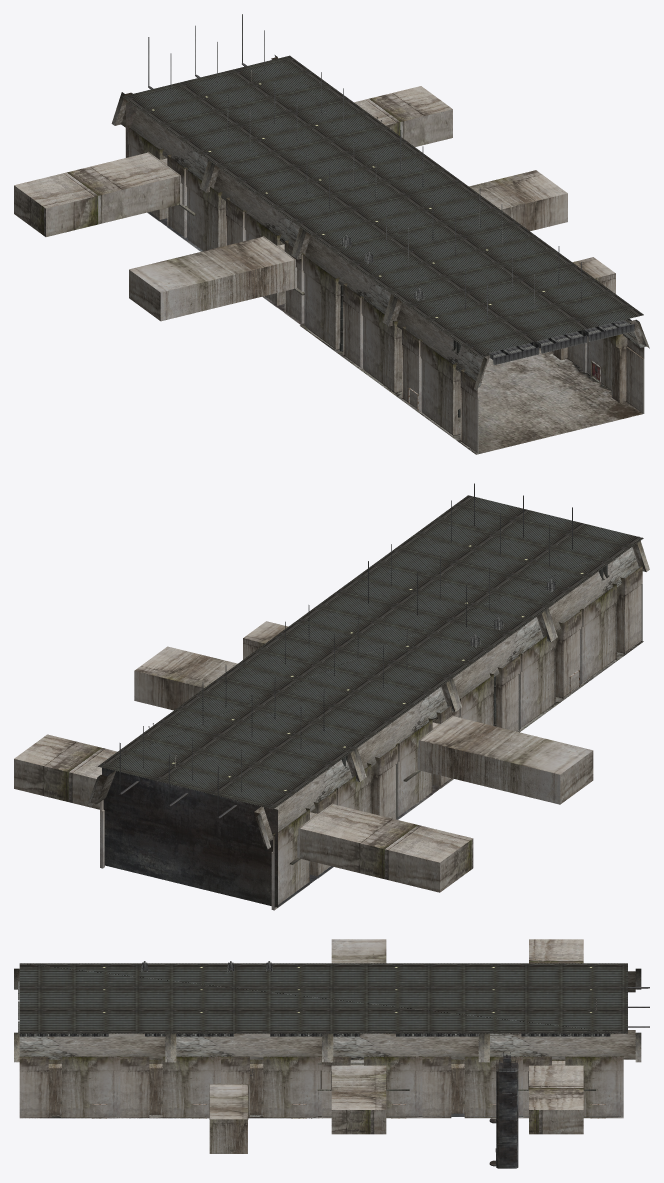
The model's file is на скетч.fbx.
3 renders of one model, top to bottom at view 1: azimuth 30°, elevation 25°; view 2: azimuth 150°, elevation 25°; view 3: azimuth 270°, elevation 25°, orthographic. The views are drawn at different scales.
Parts seen in each view (by area): view 1: Plane.005, Plane.004, Plane.001, Plane, Plane.012, Plane.006, Cube.020, Cube.001; view 2: Plane.005, Plane.004, Plane.014, Plane.012, Plane.001, Cube.020, Cube.001; view 3: Plane.005, Plane.001, Plane.012, Plane.004, Cube.001, factory_tube_03.001, Plane.006, Plane.
Part boxes in pixels (x1=…): Plane.005: x1=122, y1=55, x2=643, y2=355; Plane.004: x1=14, y1=125, x2=478, y2=454; Plane.001: x1=354, y1=86, x2=644, y2=413; Plane: x1=300, y1=325, x2=642, y2=454; Plane.012: x1=111, y1=55, x2=649, y2=390; Plane.006: x1=488, y1=318, x2=634, y2=365; Cube.020: x1=148, y1=14, x2=581, y2=325; Cube.001: x1=572, y1=257, x2=615, y2=293; Plane.005: x1=98, y1=495, x2=643, y2=809; Plane.004: x1=271, y1=566, x2=642, y2=910; Plane.014: x1=102, y1=768, x2=277, y2=907; Plane.012: x1=87, y1=536, x2=649, y2=848; Plane.001: x1=14, y1=646, x2=237, y2=868; Cube.020: x1=119, y1=483, x2=572, y2=818; Cube.001: x1=243, y1=621, x2=287, y2=659; Plane.005: x1=19, y1=963, x2=627, y2=1033; Plane.001: x1=19, y1=1056, x2=623, y2=1134; Plane.012: x1=14, y1=968, x2=641, y2=1062; Plane.004: x1=331, y1=939, x2=583, y2=963; Cube.001: x1=209, y1=1084, x2=247, y2=1153; factory_tube_03.001: x1=489, y1=1052, x2=518, y2=1168; Plane.006: x1=18, y1=981, x2=610, y2=1036; Plane: x1=29, y1=1115, x2=322, y2=1118.
Size of the model in its own units: 2070 by 897 by 3262.
11 materials, 10 textured.
